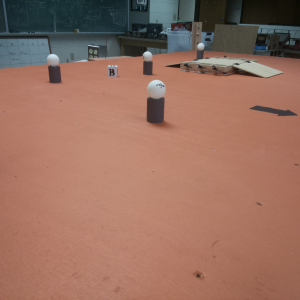blockB: (107, 64, 119, 79)
corner: (190, 20, 205, 43)
obstacle: (144, 79, 168, 127), (46, 52, 63, 86), (141, 49, 155, 77), (196, 42, 206, 57)
side: (177, 61, 227, 77)
slope: (232, 62, 282, 78)
start: (248, 103, 299, 122)
